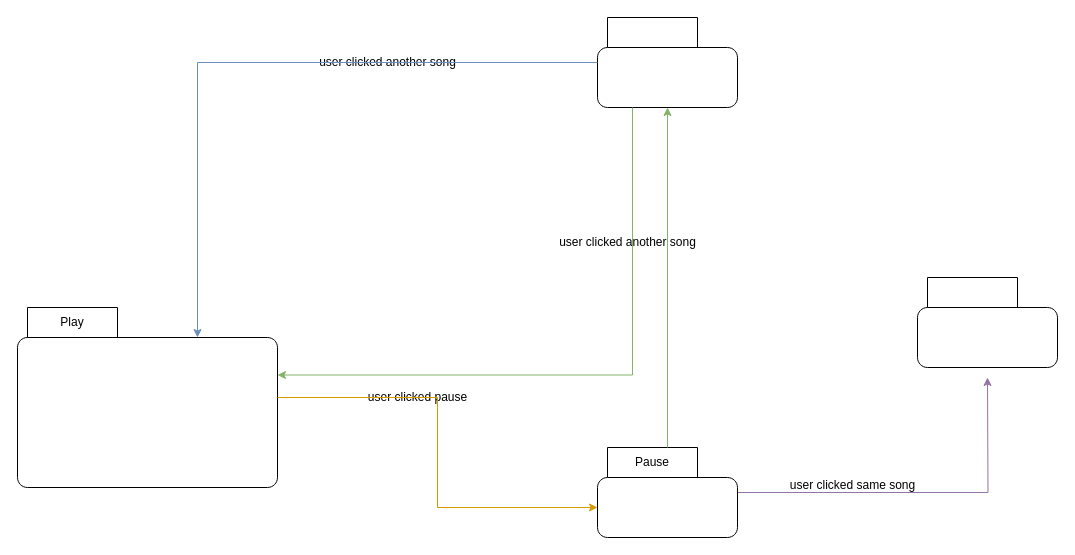
Image size: 1075x555. Some labels were removed from this diagram. Each missing label, with the box of its shape:
Resume: (916, 276, 1058, 368)
Stopped: (596, 16, 738, 108)
